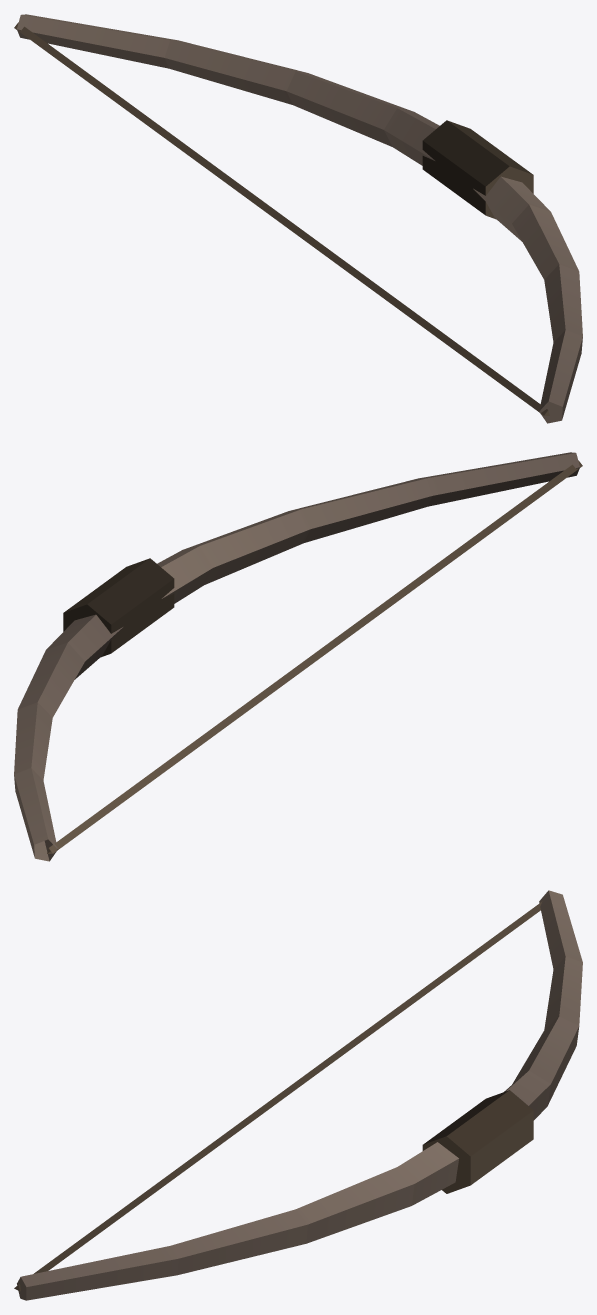
The model's file is ranger_longbow_0.gltf.
The picture shows the model from 3 angles, top to bottom: view 1: azimuth 30°, elevation 25°; view 2: azimuth 150°, elevation 25°; view 3: azimuth 330°, elevation 25°; orthographic projection.
Visible parts, largest first — view 1: ranger_longbow_0; view 2: ranger_longbow_0; view 3: ranger_longbow_0.
Boxes of the visible parts, <box> form: ranger_longbow_0: <box>14,14,582,423</box>; ranger_longbow_0: <box>14,452,582,861</box>; ranger_longbow_0: <box>14,890,582,1300</box>.
Bounding box in the file's own units: 0.4926 × 0.1216 × 2.04.
Materials: 1 (1 with a texture image).
